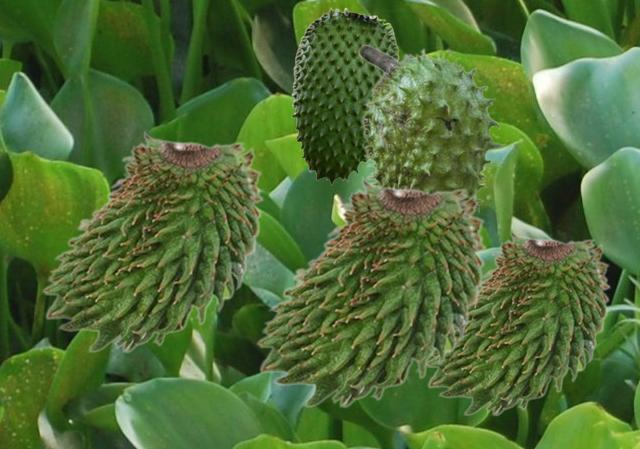guyabano: (255, 176, 486, 407), (41, 130, 263, 352), (427, 229, 610, 415), (358, 44, 505, 213), (291, 7, 398, 184)
